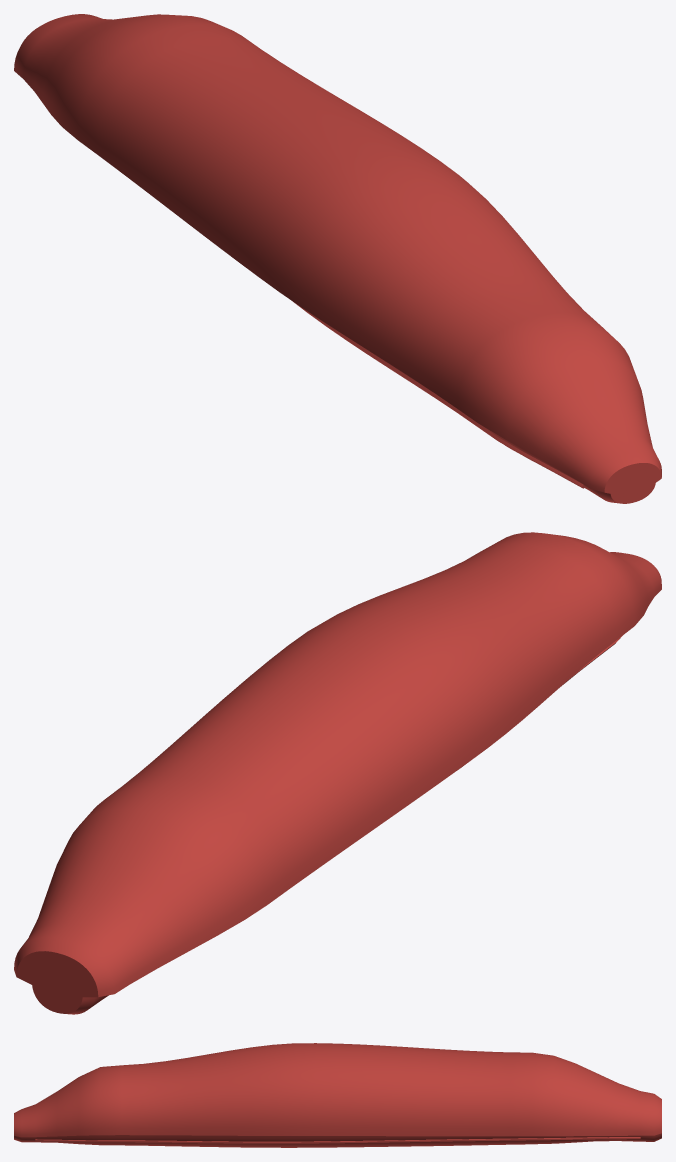
Rendered from peanut.glb.
The picture shows the model from 3 angles, top to bottom: view 1: azimuth 30°, elevation 25°; view 2: azimuth 150°, elevation 25°; view 3: azimuth 270°, elevation 25°; orthographic projection. The views are drawn at different scales.
Visible parts, largest first — view 1: lod0; view 2: lod0; view 3: lod0.
Boxes of the visible parts, box(x1,y1,x2,y2) form: lod0: box(14, 14, 661, 503); lod0: box(14, 532, 661, 1014); lod0: box(14, 1043, 661, 1147).
Size of what is drawn, in the model's own units: 0.2099 by 0.1498 by 1.
